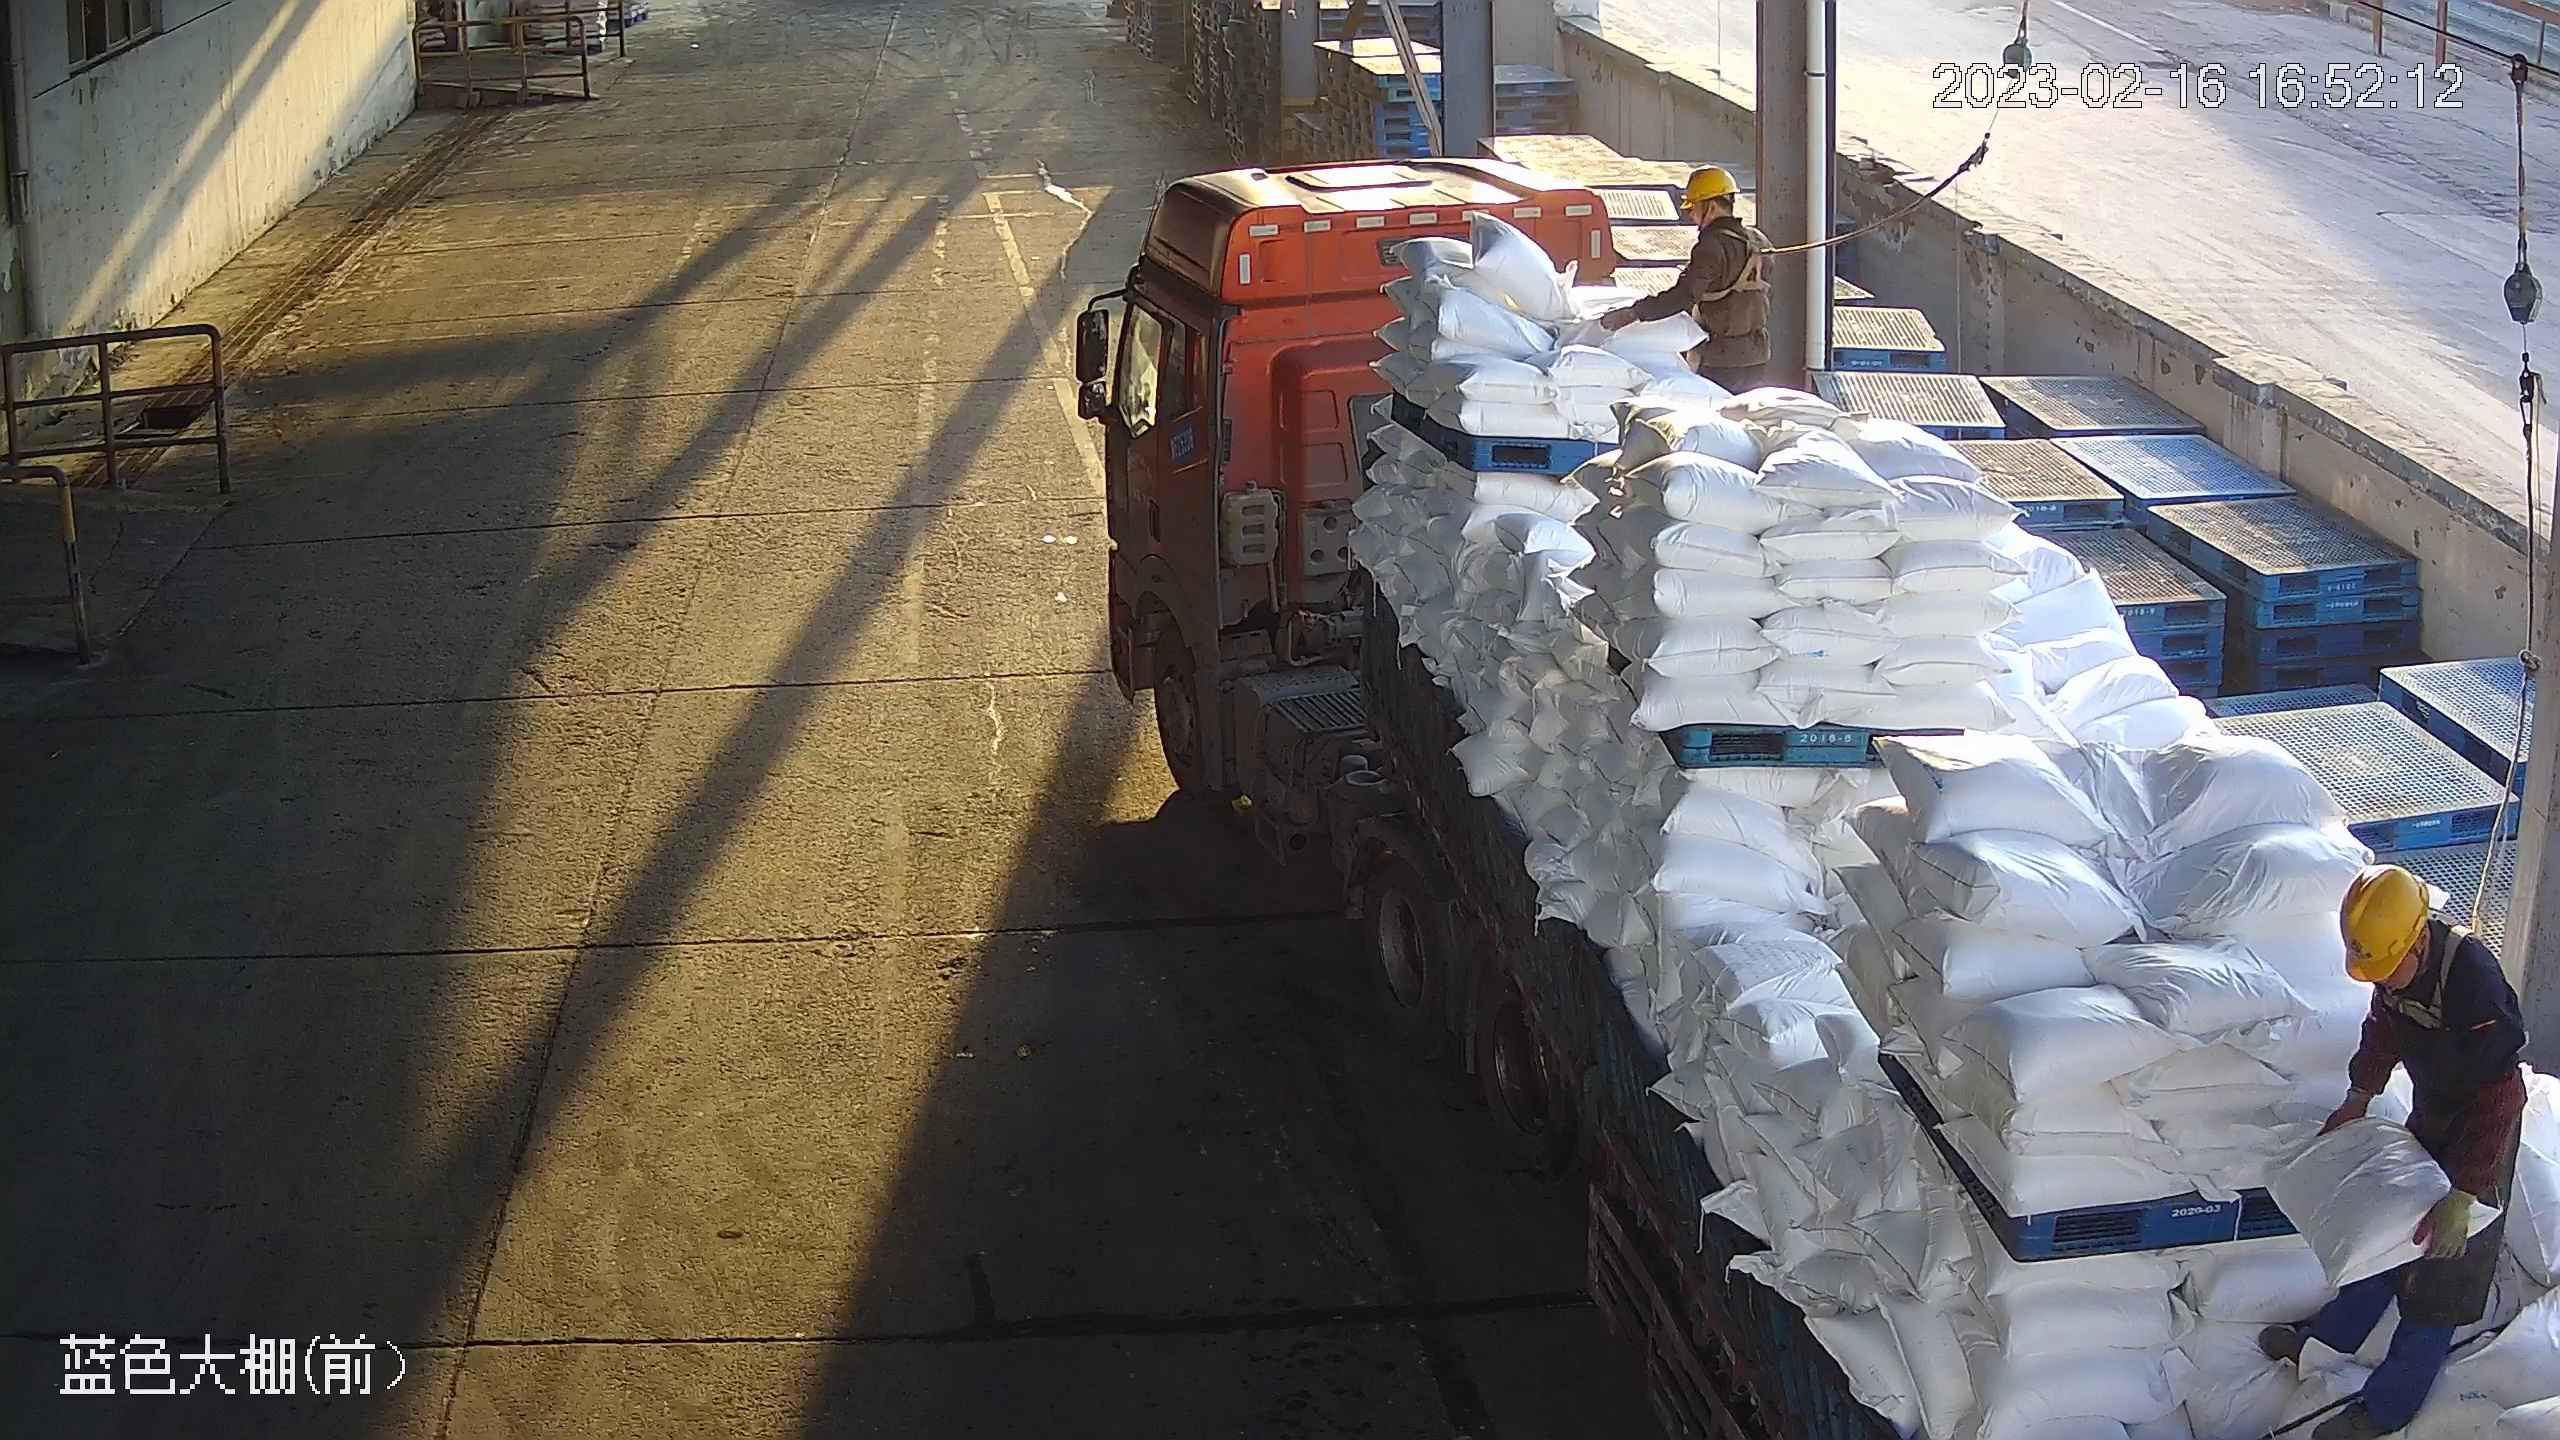belt: (2370, 923, 2472, 1031), (1703, 225, 1779, 301)
head: (2331, 866, 2522, 1058), (1673, 162, 1775, 273)
helmet: (2327, 868, 2448, 990), (1685, 164, 1748, 208)
people: (2312, 860, 2535, 1436)
truck: (1068, 155, 2560, 1440)
